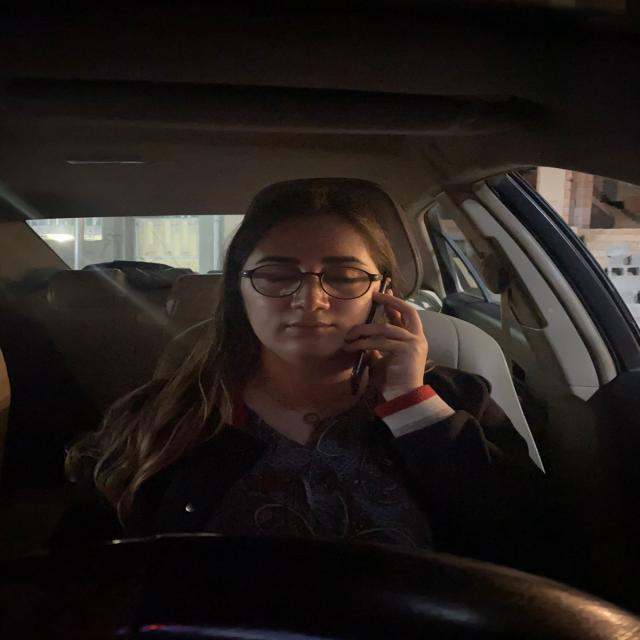person: (248, 207, 382, 360), (349, 282, 374, 406)
